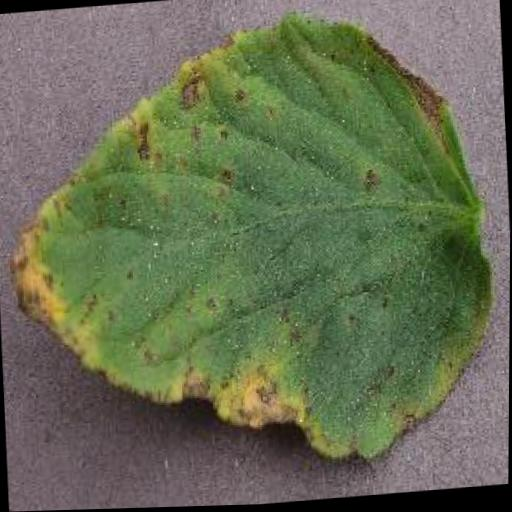Bacterial Spot: (0, 0, 505, 496)
